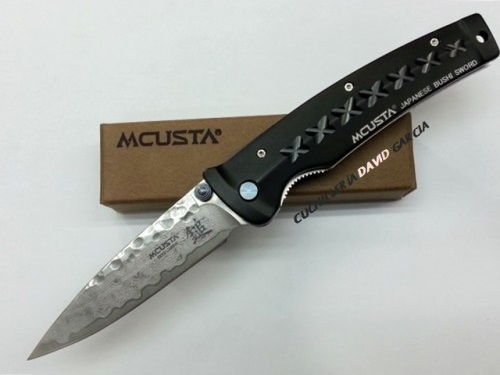knife: (19, 163, 254, 364)
